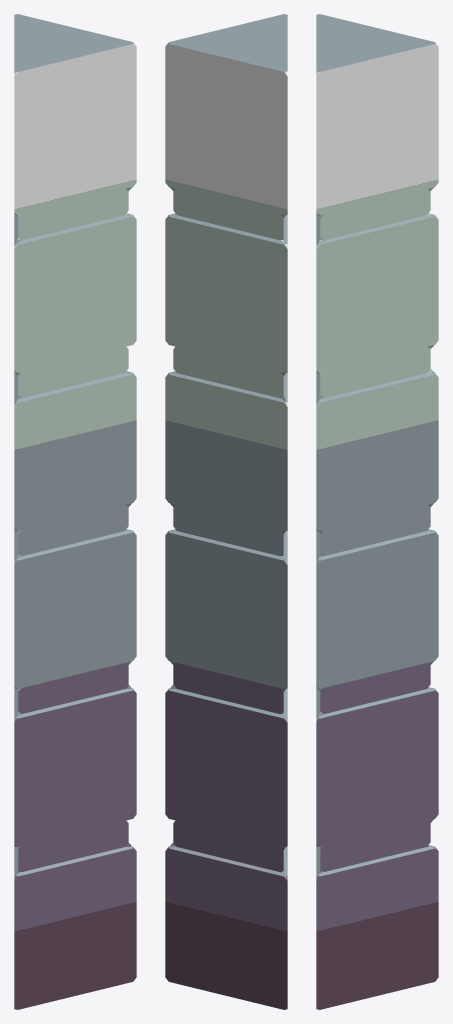
The model's file is Pillar 3.001.fbx.
The picture shows the model from 3 angles, left to right: view 1: azimuth 30°, elevation 25°; view 2: azimuth 210°, elevation 25°; view 3: azimuth 270°, elevation 25°; orthographic projection.
Parts seen in each view (by area): view 1: Pillar 3.001; view 2: Pillar 3.001; view 3: Pillar 3.001.
Part boxes in pixels (x1=…): Pillar 3.001: x1=14, y1=14, x2=136, y2=1009; Pillar 3.001: x1=165, y1=14, x2=287, y2=1009; Pillar 3.001: x1=316, y1=14, x2=438, y2=1009.
Bounding box in the file's own units: 81.25 × 594 × 70.36.
